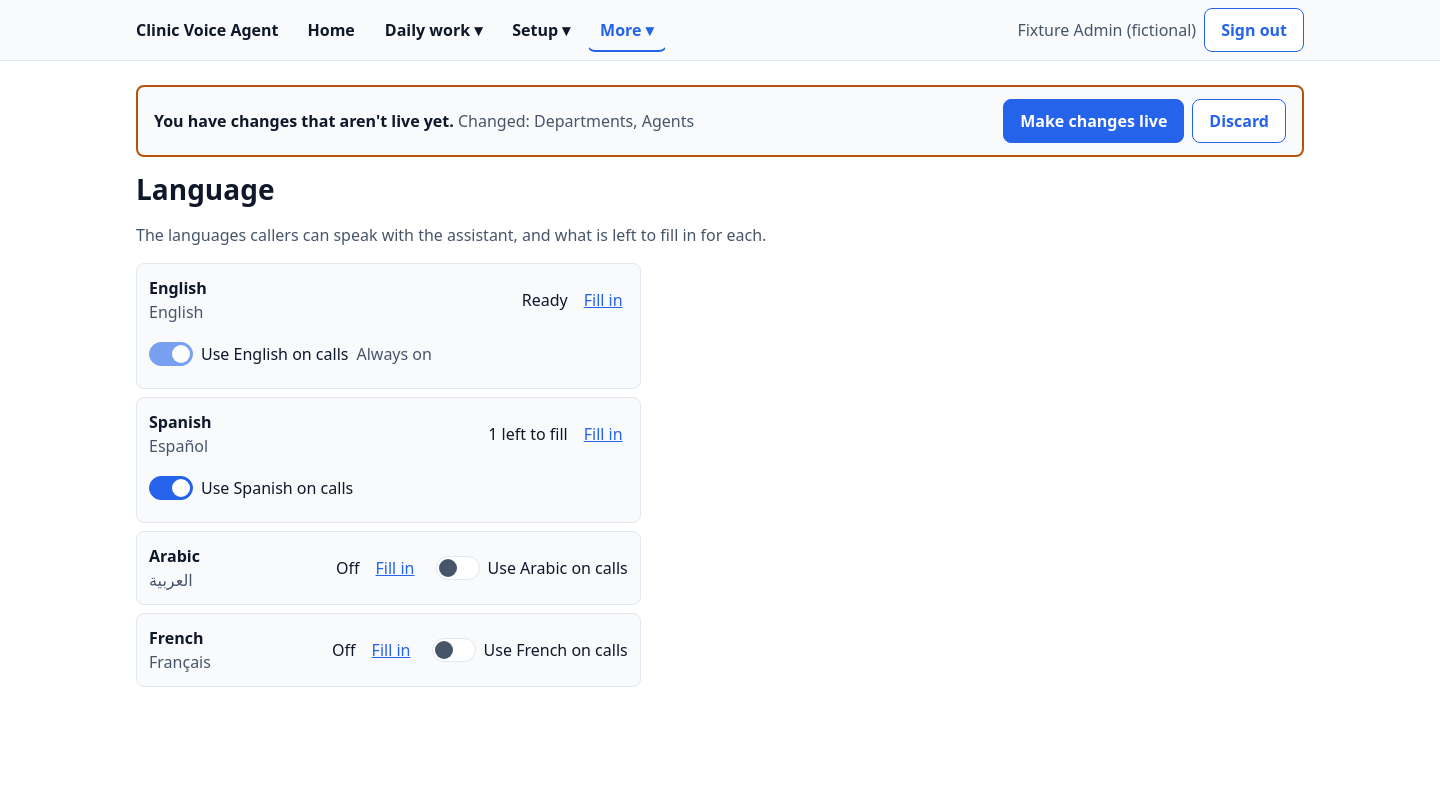
Scenario: T-LANG-PAGES: language list › a failed save reverts the switch and shows the error
Step 1. Click the switch labelled "Use Arabic on calls" → (458, 568), box [436, 556, 480, 580]
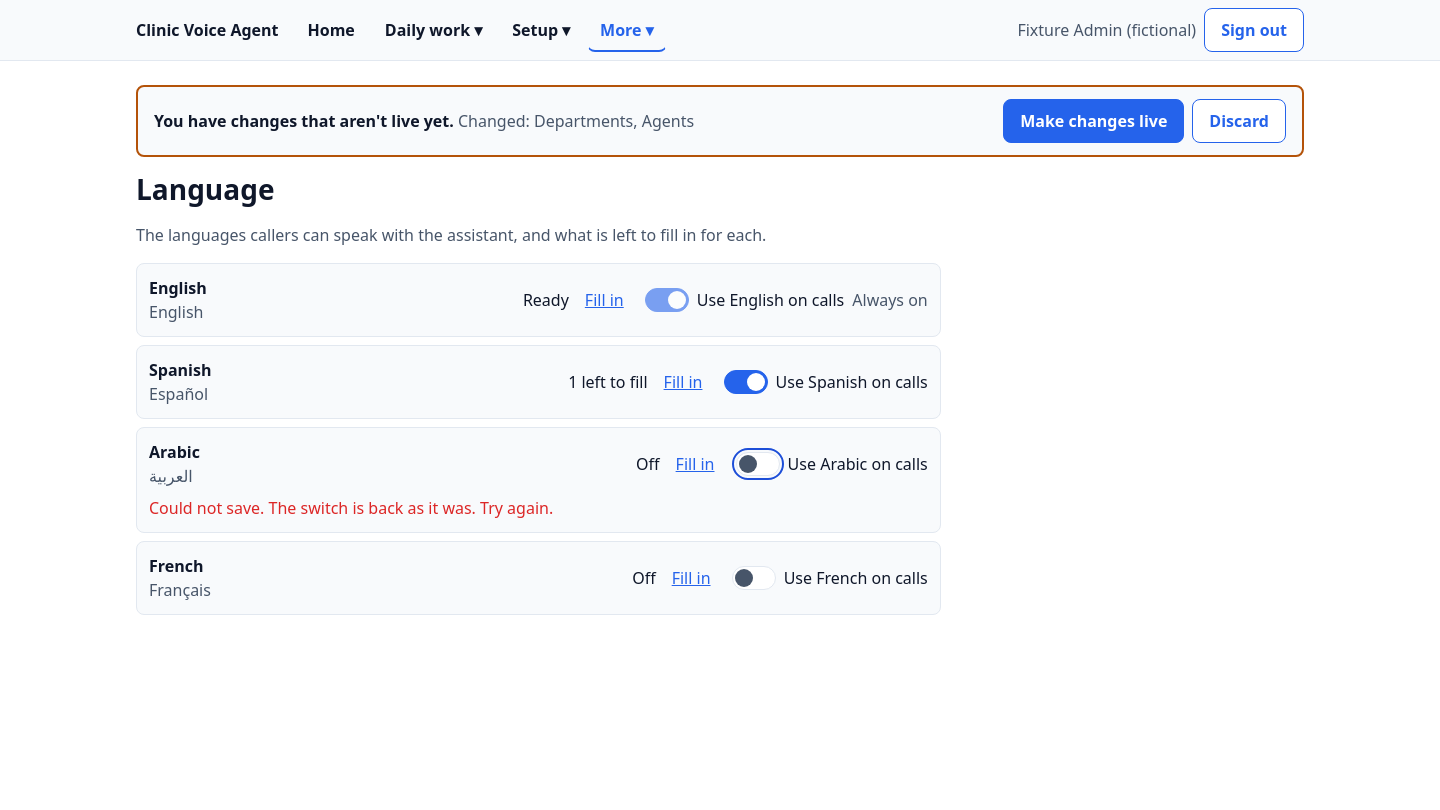
Expected: the switch labelled "Use Arabic on calls" is not checked, [736, 452, 780, 476]
Expected: the message with test id "lang-error-ar" shows "Could not save", [149, 497, 553, 519]
